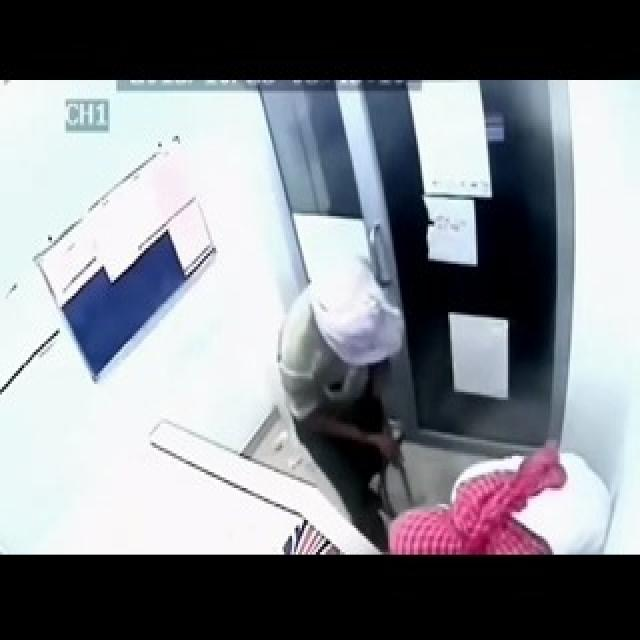thief: (272, 256, 399, 516), (384, 446, 622, 548)
